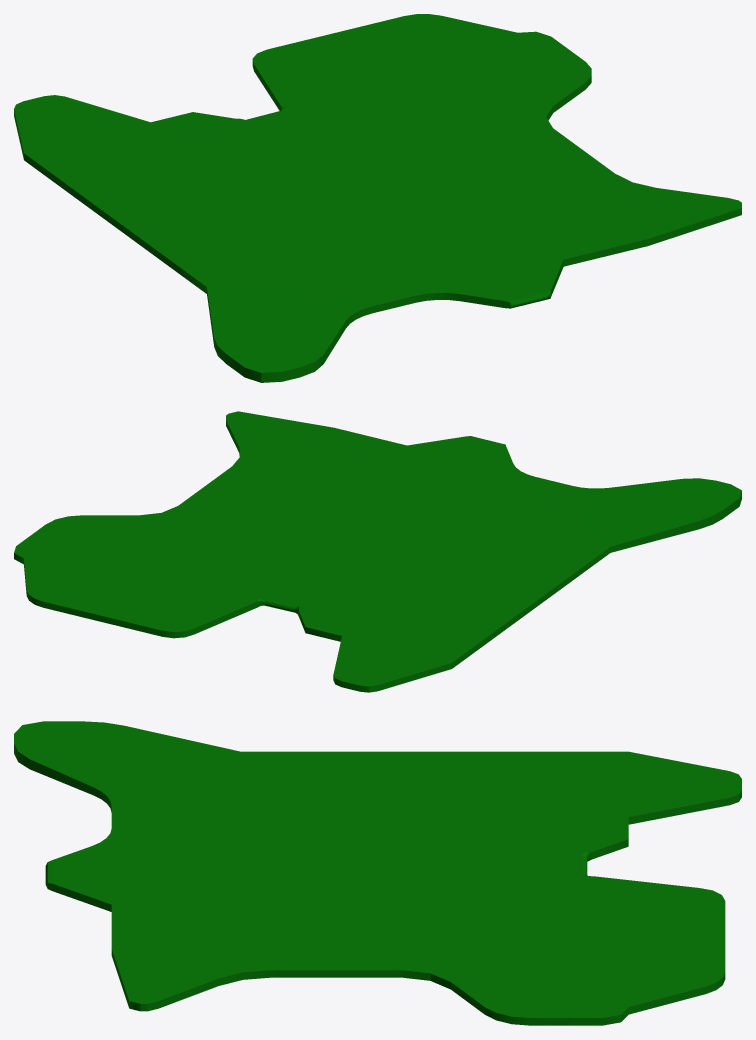
Rendered from slime1.fbx.
The picture shows the model from 3 angles, top to bottom: view 1: azimuth 30°, elevation 25°; view 2: azimuth 150°, elevation 25°; view 3: azimuth 270°, elevation 25°; orthographic projection. The views are drawn at different scales.
Visible parts, largest first — view 1: pCube1; view 2: pCube1; view 3: pCube1.
Boxes of the visible parts, left/top/right/bottom form: pCube1: left=14, top=14, right=741, bottom=382; pCube1: left=14, top=411, right=741, bottom=692; pCube1: left=14, top=721, right=741, bottom=1025.
Bounding box in the file's own units: 16.02 × 0.2688 × 16.71.
